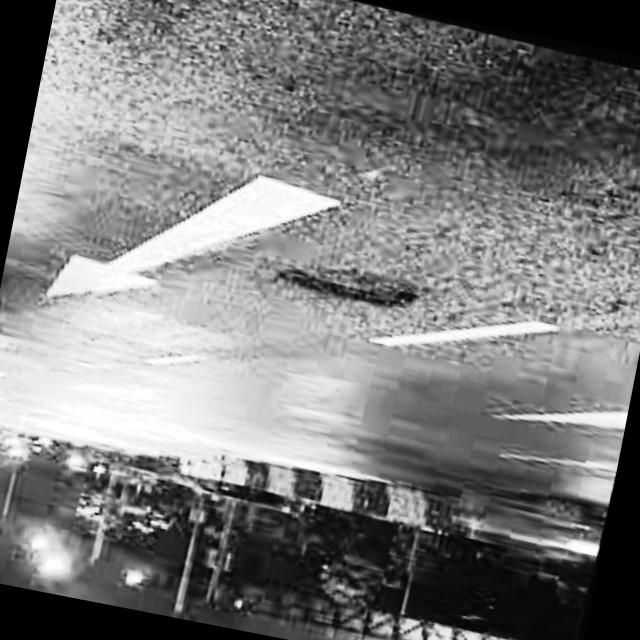Pothole: (261, 228, 440, 333)
